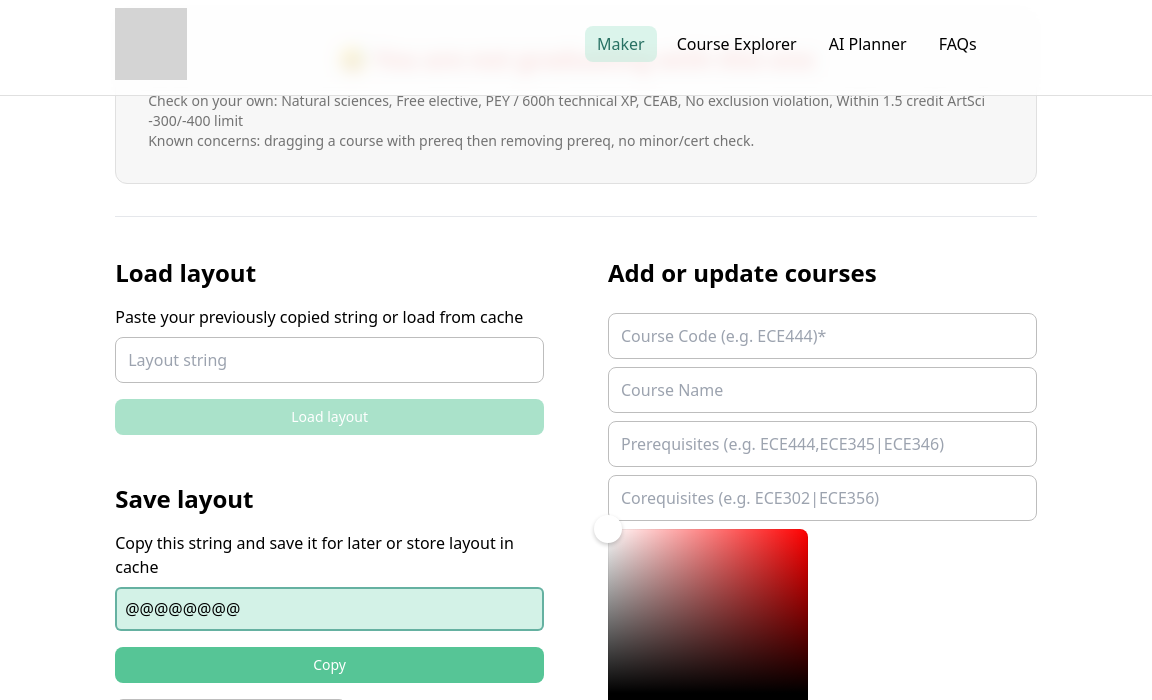
Test: Extra (EXT) courses on the grid › shows no badge or toggle until the card is marked
This screenshot has width=1152, height=700.
(page scrolled)
Step 1. Type "CST000Complementary%%c$$ABC123Other%%" into the field with placeholder "Layout string" → [330, 360], box x1=115 y1=337 x2=544 y2=383
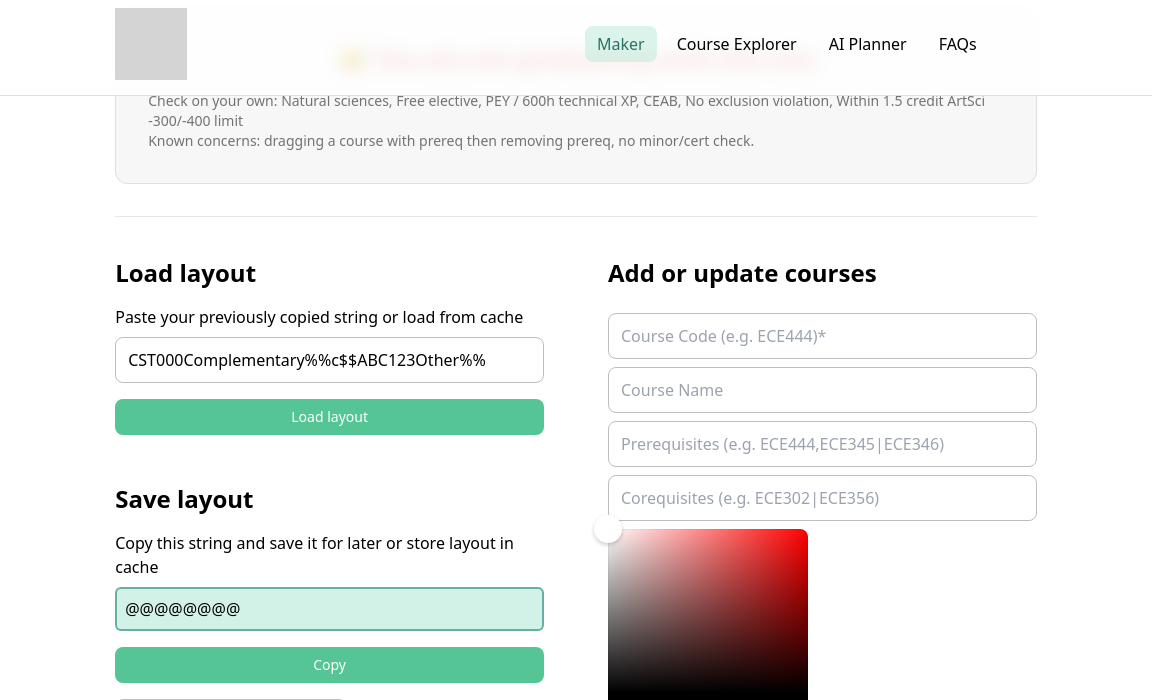
Step 2. Click the button with test id "load-layout" → [330, 417], box x1=115 y1=399 x2=544 y2=435
(page scrolled)
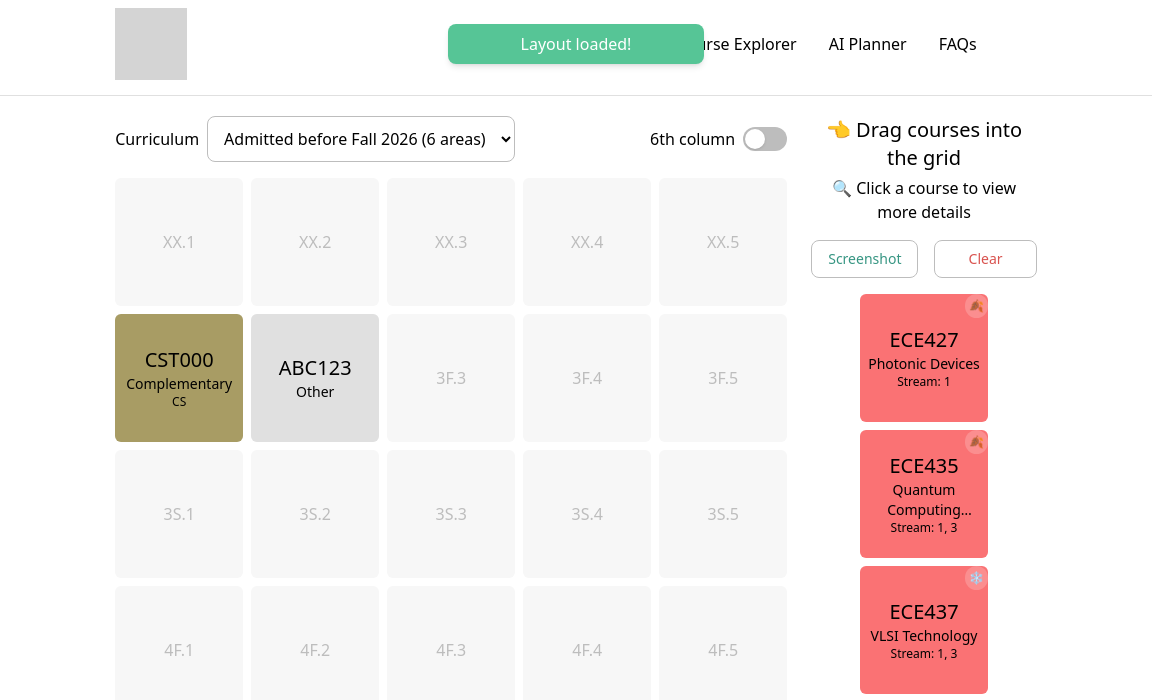
Step 3. Click the heading "CST000" → [179, 360], box x1=145 y1=346 x2=214 y2=374
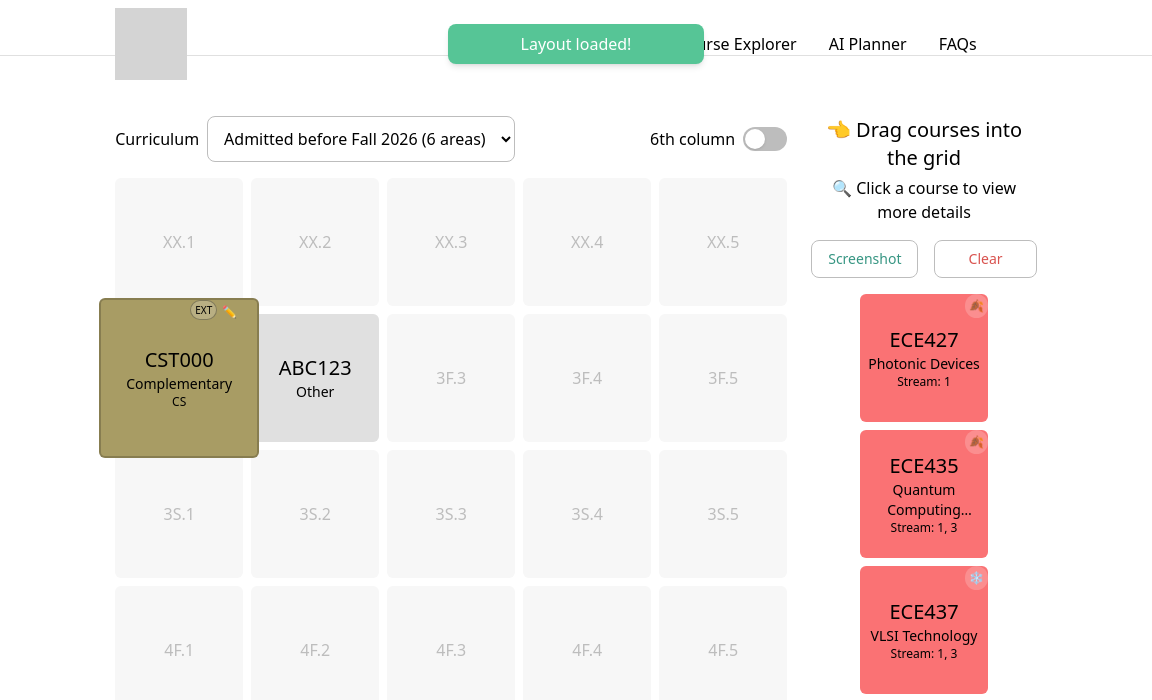
Now the button with test id "toggle-ext" is shown, box x1=190 y1=300 x2=217 y2=320
